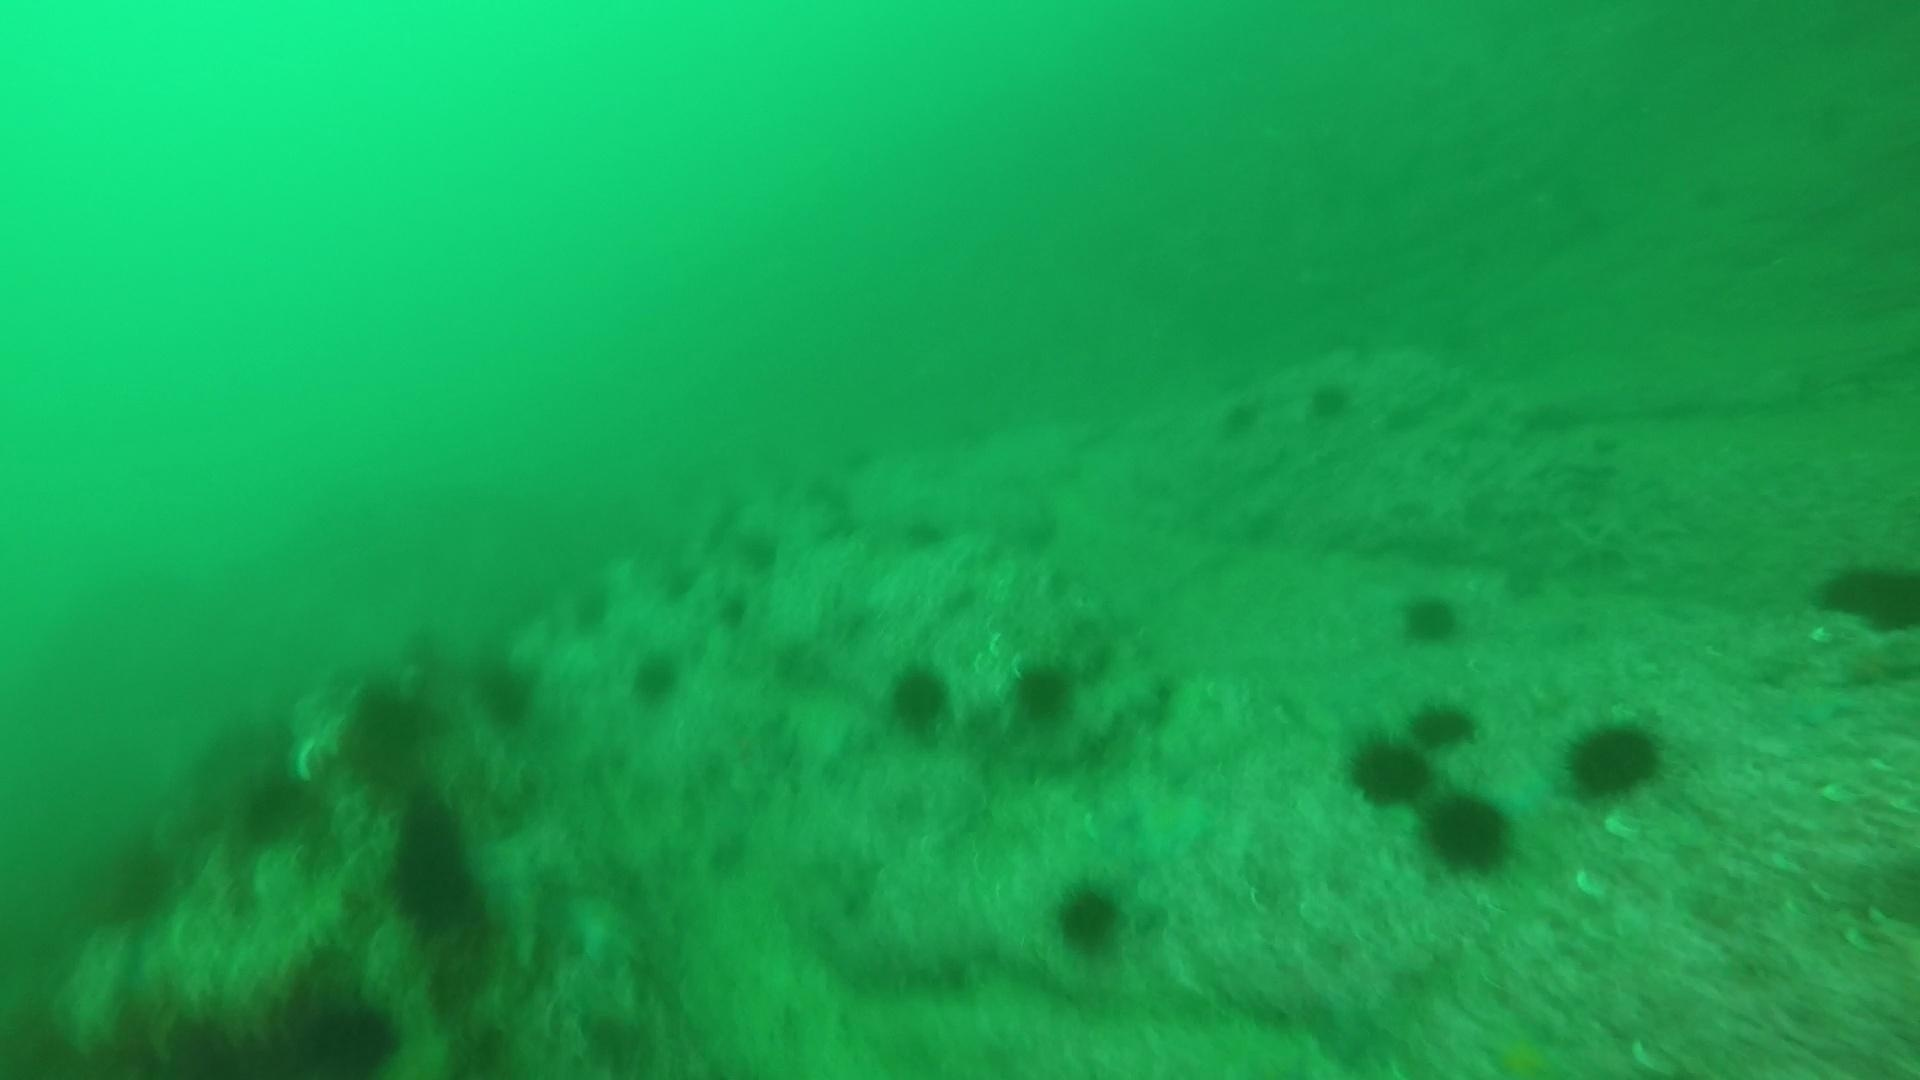echinus: (1557, 712, 1669, 804), (1418, 789, 1518, 878), (1813, 550, 1917, 636), (1342, 728, 1433, 810), (1047, 874, 1131, 959), (880, 657, 957, 741), (1005, 653, 1084, 729), (473, 653, 543, 731), (1404, 695, 1482, 756), (1394, 585, 1466, 649), (625, 647, 687, 708), (564, 578, 616, 637), (1303, 375, 1358, 425), (709, 591, 756, 633), (913, 512, 959, 554), (1222, 393, 1269, 435)
starfish: (1120, 771, 1220, 866), (1474, 1015, 1577, 1076), (1770, 678, 1863, 733)
